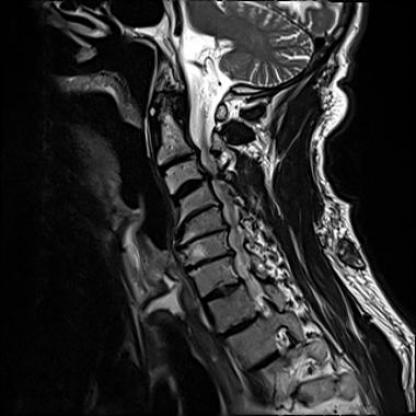Disc Bulgerotation: (167, 179, 210, 198), (176, 231, 230, 246), (183, 255, 238, 268), (177, 207, 222, 221), (160, 155, 196, 168)
Osteophytesrotation: (166, 179, 210, 198), (176, 231, 230, 246), (182, 255, 237, 268), (177, 207, 222, 222), (160, 155, 197, 168)
